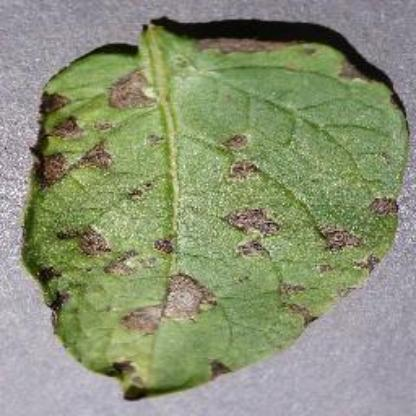Early-Blight: (22, 13, 409, 401)
